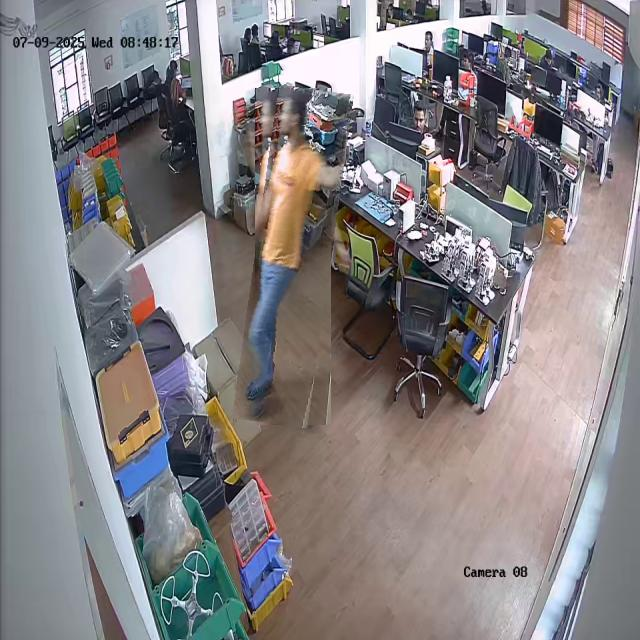person: (244, 86, 342, 427)
